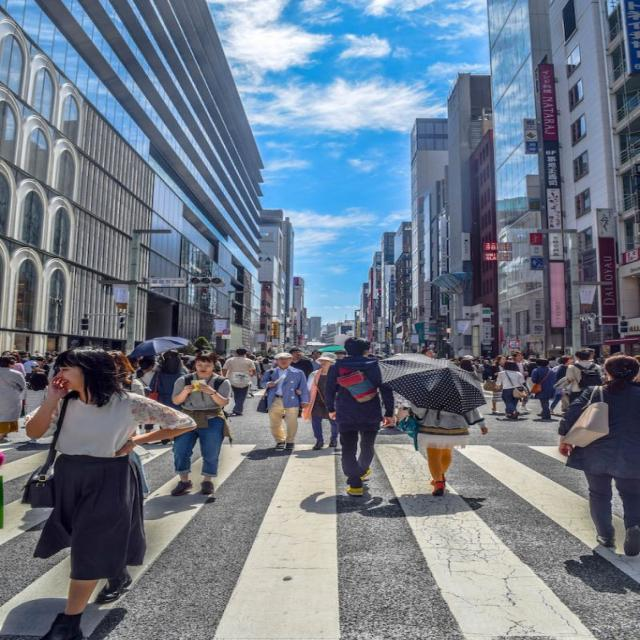body: (0, 343, 636, 639), (17, 346, 201, 640), (557, 355, 640, 556), (320, 335, 394, 497), (160, 348, 232, 500), (394, 399, 491, 498), (254, 351, 313, 454), (300, 351, 340, 451), (552, 348, 606, 404), (0, 355, 28, 444), (221, 348, 257, 416), (528, 356, 560, 420), (106, 349, 147, 396), (548, 353, 576, 416), (481, 354, 507, 416), (18, 370, 50, 418), (511, 351, 534, 414), (184, 345, 224, 378), (128, 356, 158, 389), (288, 347, 315, 382), (152, 350, 191, 374)
